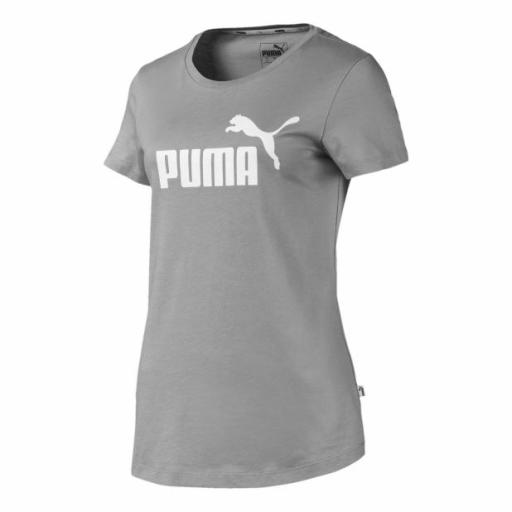Puma: (223, 108, 302, 174)
